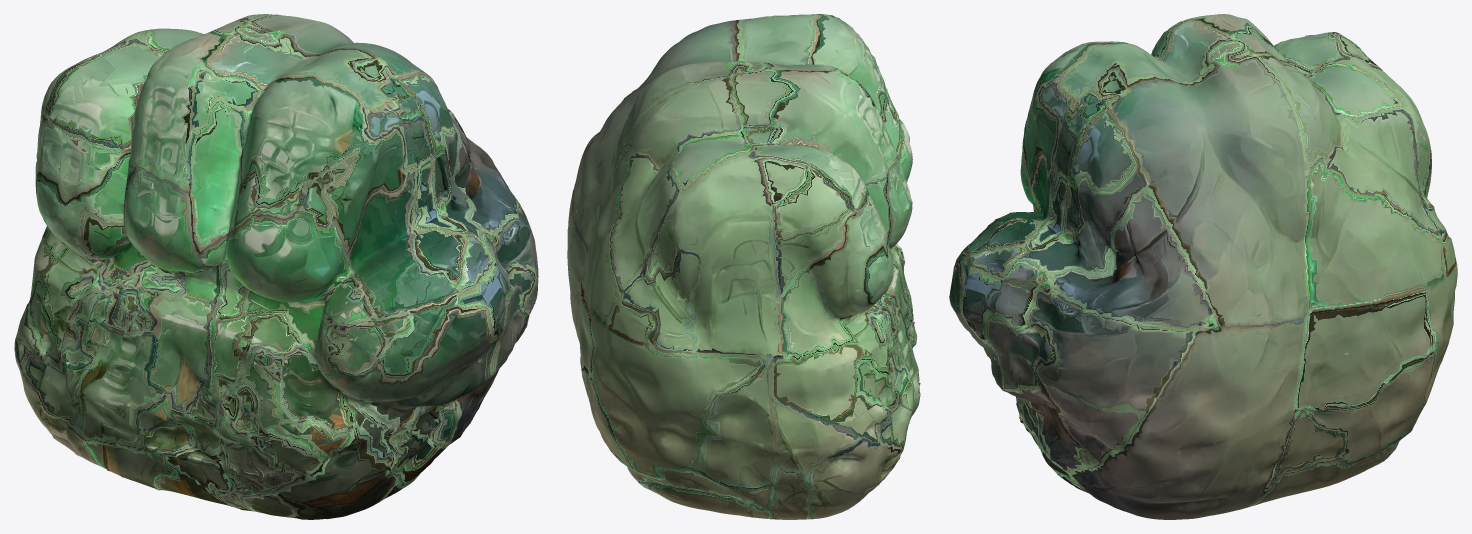
The model's file is stone_wood.glb.
The picture shows the model from 3 angles, left to right: view 1: azimuth 30°, elevation 25°; view 2: azimuth 150°, elevation 25°; view 3: azimuth 270°, elevation 25°; orthographic projection. The views are drawn at different scales.
Size of the model in its own units: 0.8798 by 0.8936 by 0.9797.
Materials: 1 (1 with a texture image).
